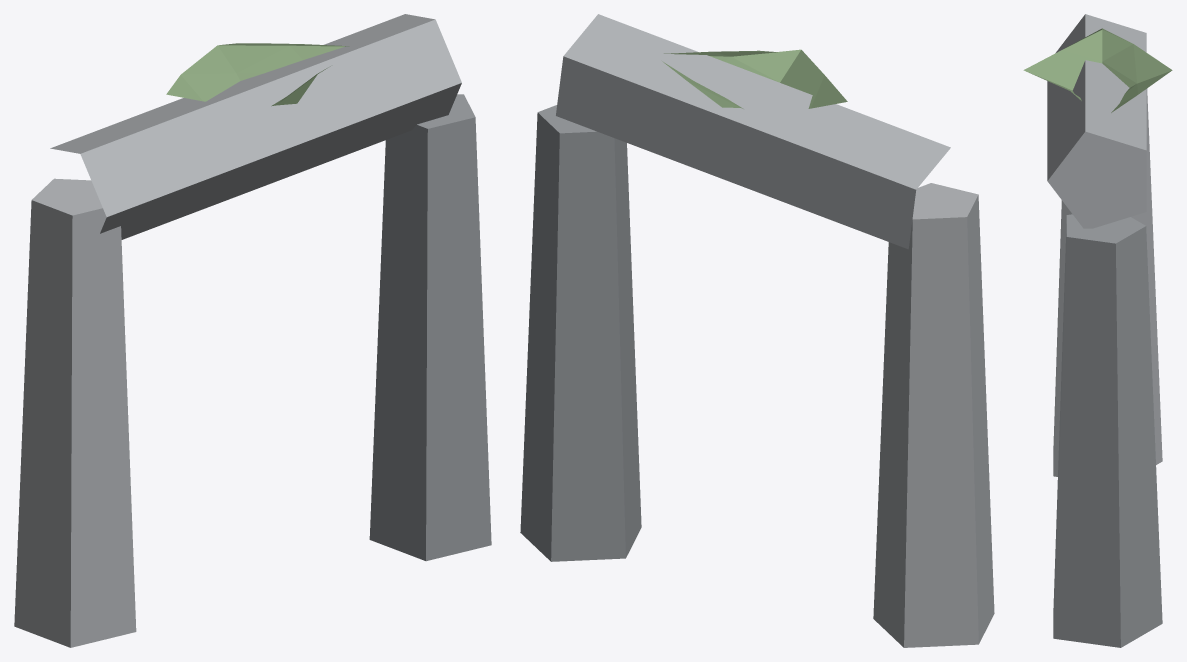
The model's file is arch_rock_v24.glb.
3 renders of one model, left to right at view 1: azimuth 30°, elevation 25°; view 2: azimuth 150°, elevation 25°; view 3: azimuth 270°, elevation 25°, orthographic. The views are drawn at different scales.
Parts seen in each view (by area): view 1: lod0; view 2: lod0; view 3: lod0.
Boxes of the visible parts, box(x1,y1,x2,y2) form: lod0: box(14, 14, 491, 647); lod0: box(520, 14, 994, 647); lod0: box(1023, 14, 1172, 647).
Size of what is drawn, in the model's own units: 1.82 by 2.01 by 0.5446.
